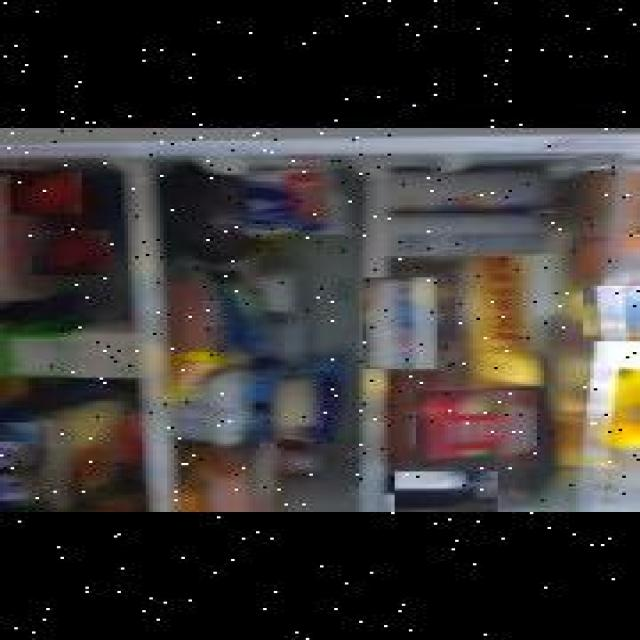butter: (412, 390, 534, 468)
cheese: (359, 277, 434, 369)
marmelade: (391, 471, 494, 512)
mayonaise: (579, 285, 640, 341)
milk: (0, 318, 139, 382)
sausage: (158, 277, 215, 395)
tomato: (27, 230, 105, 276), (7, 173, 78, 215)
yogurt: (150, 168, 238, 269), (0, 422, 50, 473), (0, 469, 43, 512)
